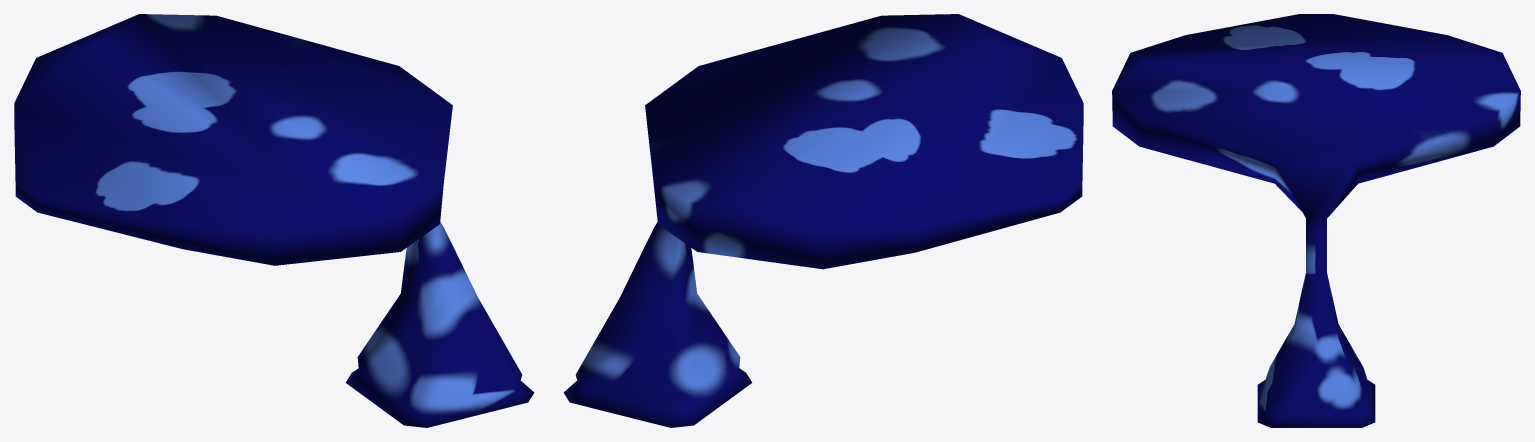
The model's file is MushroomTree.fbx.
3 views of the same model, side by side, from view 1: azimuth 30°, elevation 25°; view 2: azimuth 150°, elevation 25°; view 3: azimuth 270°, elevation 25° (orthographic). The views are drawn at different scales.
Parts seen in each view (by area): view 1: Mushroom1; view 2: Mushroom1; view 3: Mushroom1.
Boxes of the visible parts, x1,y1,x2,y2 form: Mushroom1: (14, 14, 534, 427); Mushroom1: (563, 14, 1083, 427); Mushroom1: (1112, 14, 1520, 427).
Size of the model in its own units: 2.58 by 2.45 by 1.66.
Materials: 1 (1 with a texture image).
